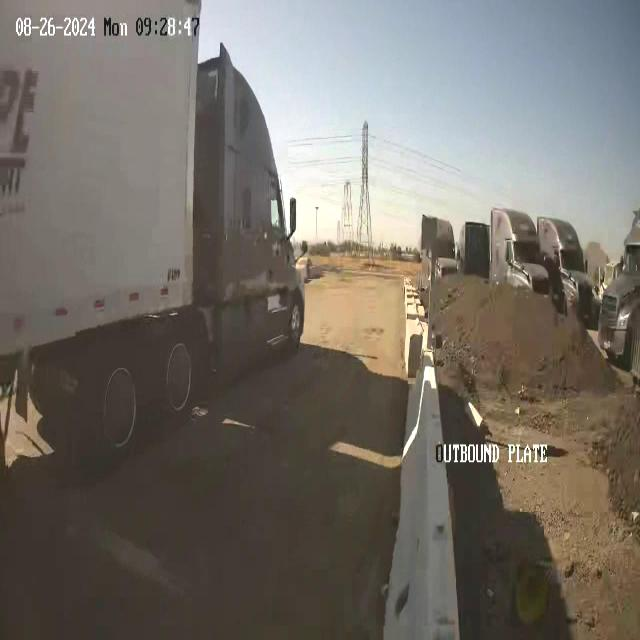TRUCK_CONTAINER: (1, 2, 307, 469)
